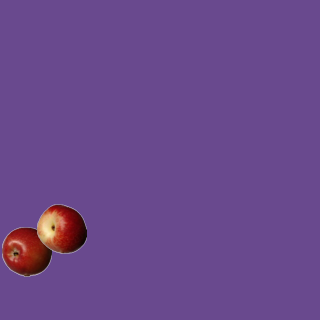Apple Braeburn: (1, 226, 51, 276)
Nectarine: (36, 203, 86, 253)
